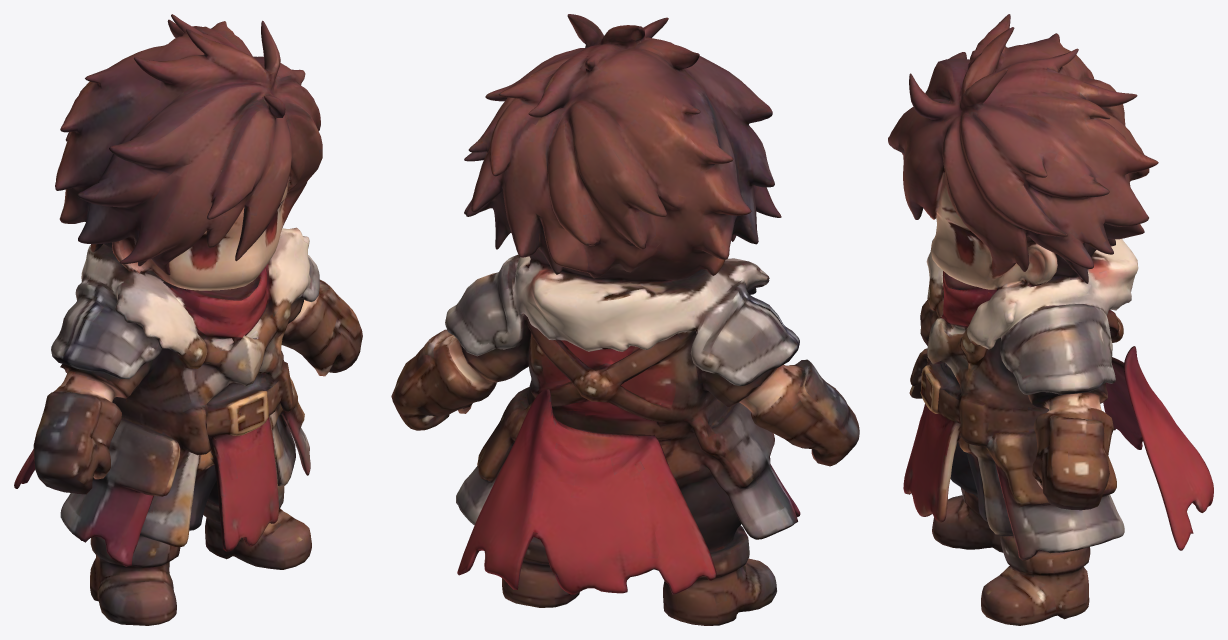
File: warrior.glb
3 renders of one model, left to right at view 1: azimuth 30°, elevation 25°; view 2: azimuth 150°, elevation 25°; view 3: azimuth 270°, elevation 25°, orthographic. The views are drawn at different scales.
Visible parts, largest first — view 1: tripo_node_ad92eac9-3ef9-4ffd-9285-1bb44dad5856; view 2: tripo_node_ad92eac9-3ef9-4ffd-9285-1bb44dad5856; view 3: tripo_node_ad92eac9-3ef9-4ffd-9285-1bb44dad5856.
Boxes of the visible parts, x1,y1,x2,y2 form: tripo_node_ad92eac9-3ef9-4ffd-9285-1bb44dad5856: (14, 14, 362, 625); tripo_node_ad92eac9-3ef9-4ffd-9285-1bb44dad5856: (391, 14, 859, 625); tripo_node_ad92eac9-3ef9-4ffd-9285-1bb44dad5856: (888, 14, 1213, 625).
Bounding box in the file's own units: 0.7068 × 0.9768 × 0.5318.
Materials: 1 (1 with a texture image).
